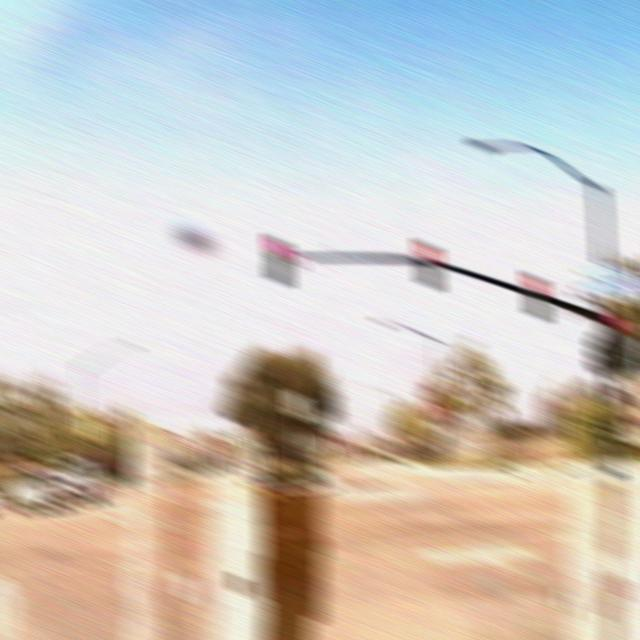speedLimit50: (284, 390, 308, 419)
